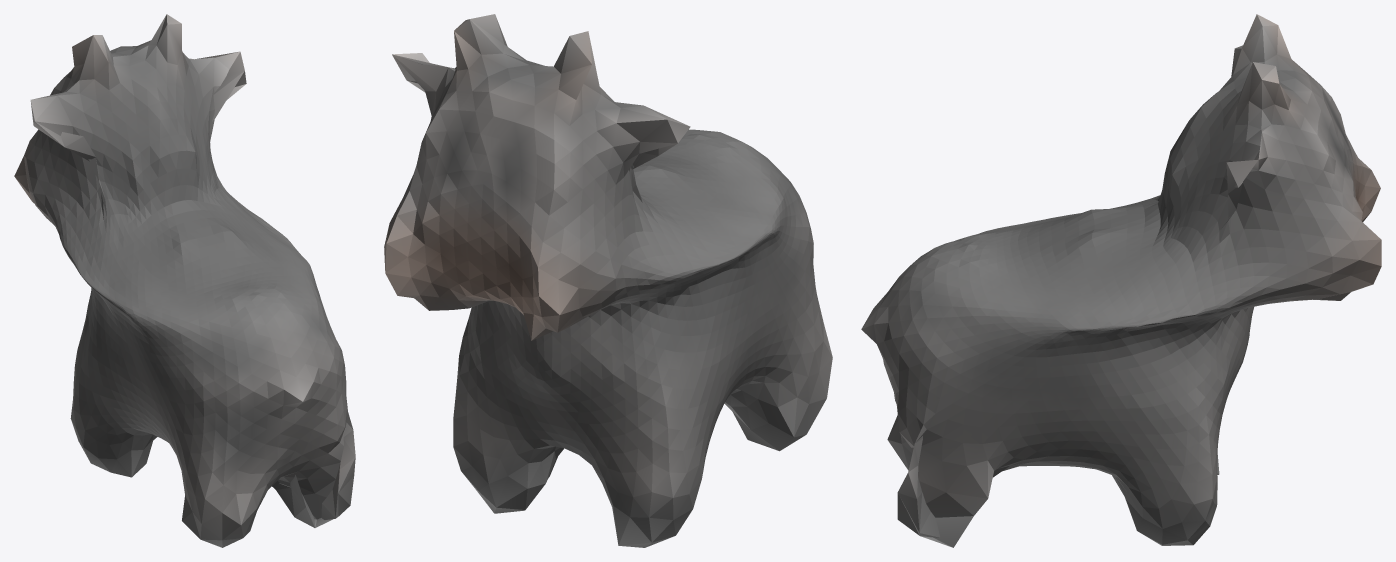
Rendered from colored_mesh_iter_0450.obj.
The picture shows the model from 3 angles, left to right: view 1: azimuth 30°, elevation 25°; view 2: azimuth 150°, elevation 25°; view 3: azimuth 270°, elevation 25°; orthographic projection. The views are drawn at different scales.
Size of the model in its own units: 1.1 by 2.01 by 1.97.
